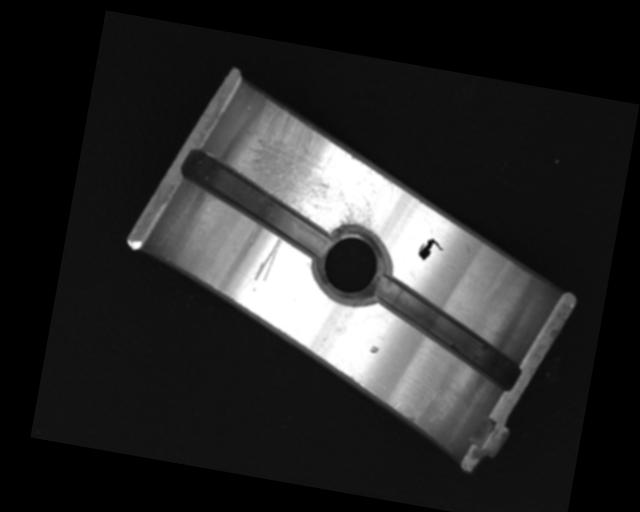blot: (416, 236, 445, 264)
bruise: (368, 344, 381, 355)
gap: (359, 272, 532, 391), (171, 148, 339, 258)
hole: (308, 218, 396, 307)
nick: (252, 232, 282, 286)
scratch: (238, 96, 400, 234)
